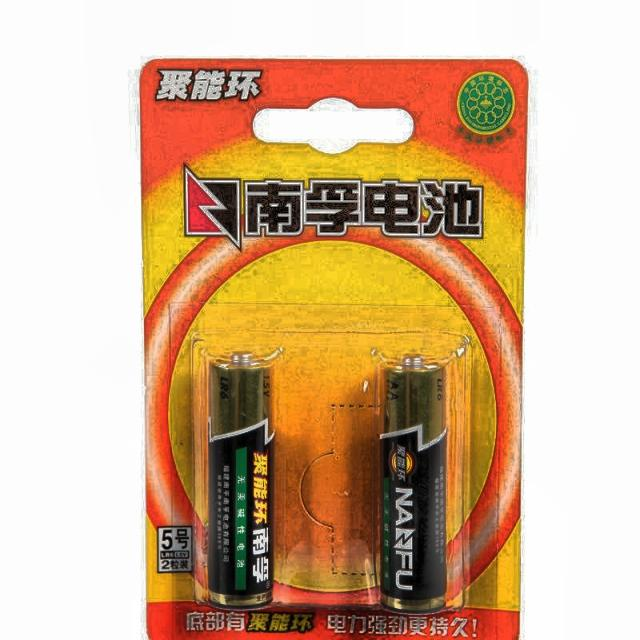Non-Valuable Waste - Batteries: (202, 353, 274, 606), (380, 356, 449, 611)
